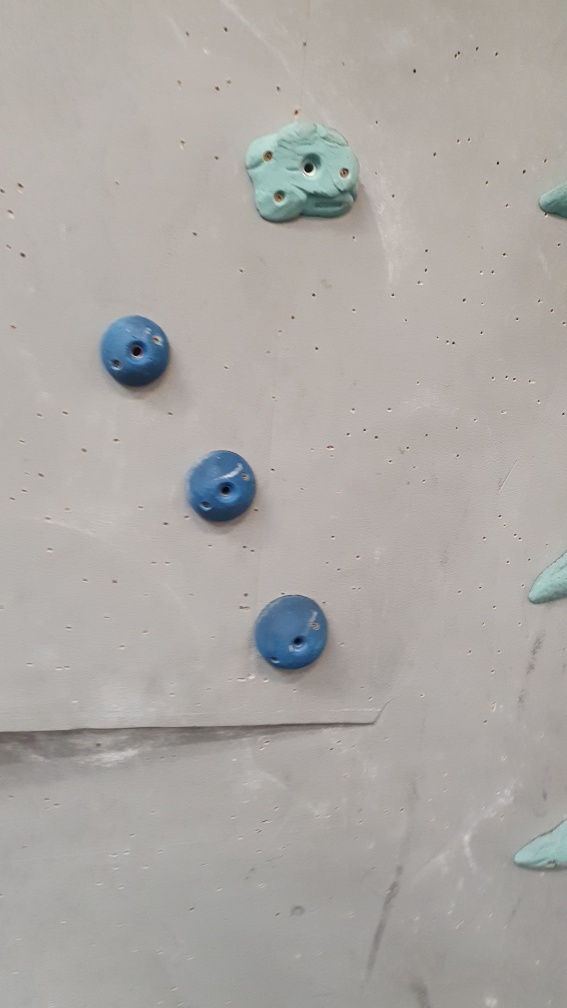Crimp: (517, 820, 567, 875)
Sloper: (256, 593, 333, 674), (99, 315, 173, 390), (187, 450, 257, 525)
